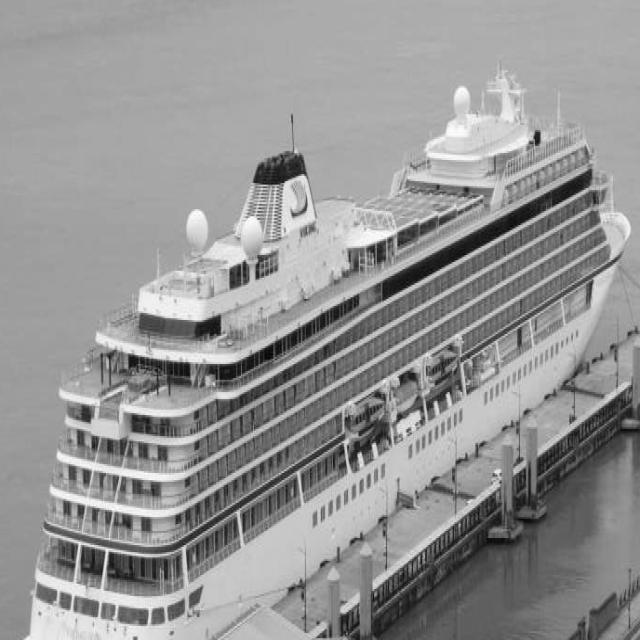cruises: (1, 66, 634, 640)
